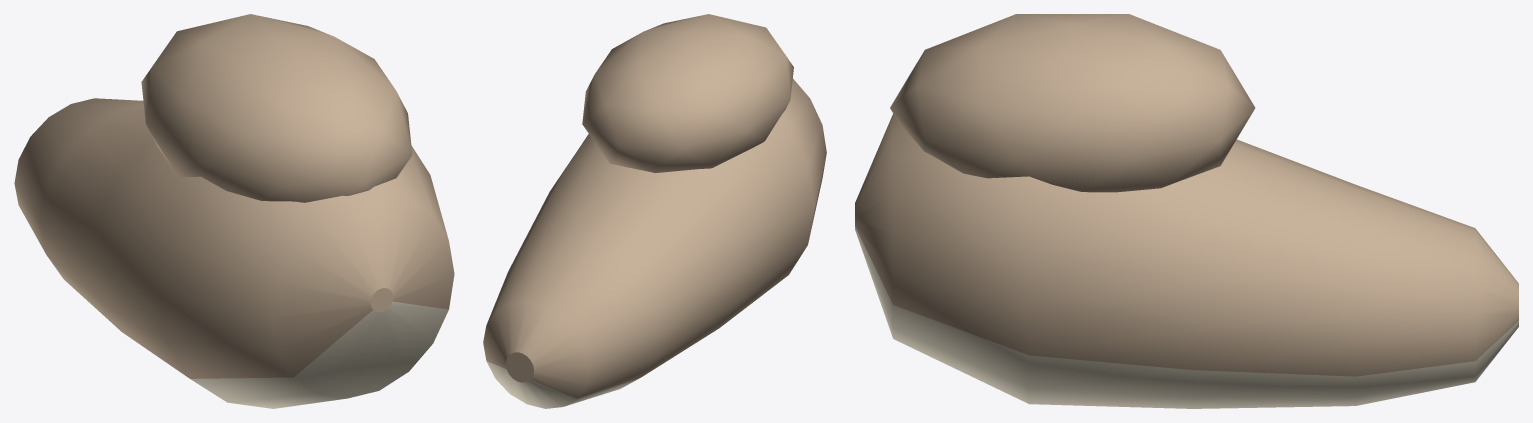
File: cr_body_b.fbx
3 renders of one model, left to right at view 1: azimuth 30°, elevation 25°; view 2: azimuth 150°, elevation 25°; view 3: azimuth 270°, elevation 25°, orthographic. The views are drawn at different scales.
Parts seen in each view (by area): view 1: Body; view 2: Body; view 3: Body.
Part boxes in pixels (left/top/right/bottom): Body: left=14, top=14, right=454, bottom=408; Body: left=483, top=14, right=826, bottom=408; Body: left=855, top=14, right=1518, bottom=408.
Bounding box in the file's own units: 0.62 × 0.745 × 1.22.
